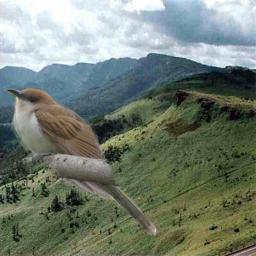Cuckoo: (5, 88, 158, 237)
